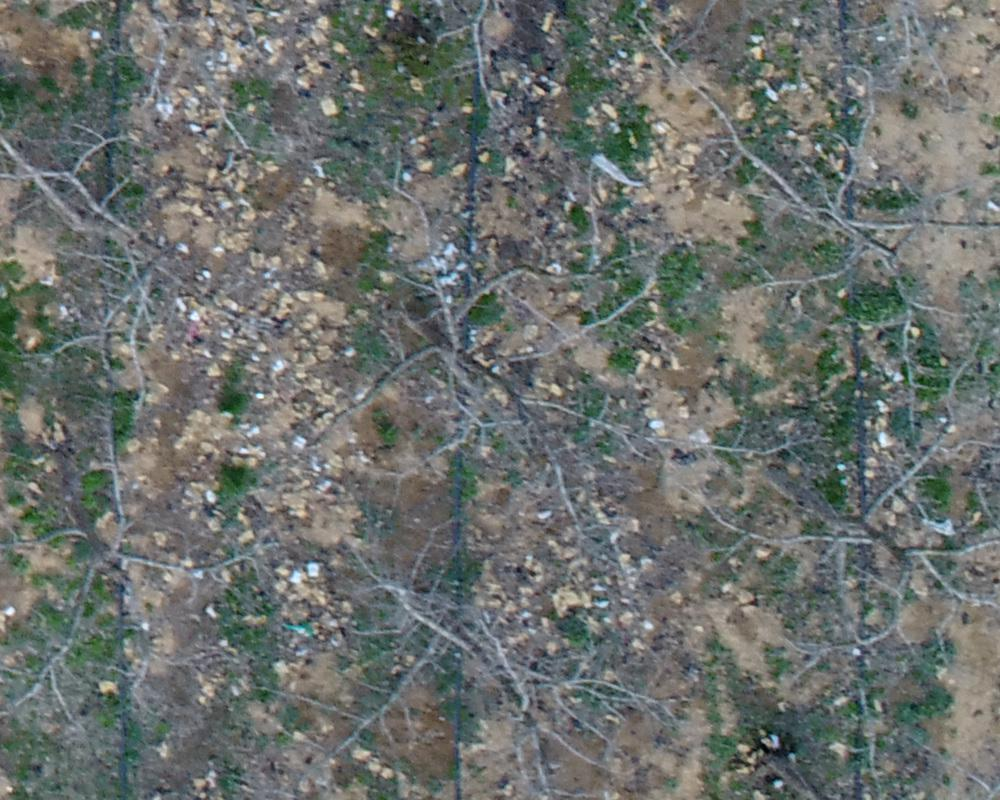apple: (314, 173, 672, 535), (666, 52, 973, 396), (688, 335, 990, 666), (304, 526, 672, 790), (10, 379, 284, 729), (10, 10, 222, 414)
